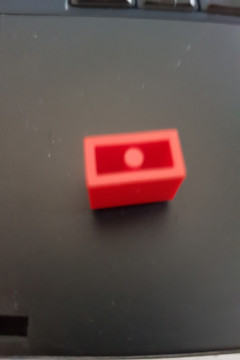1x2 red: (79, 127, 187, 213)
